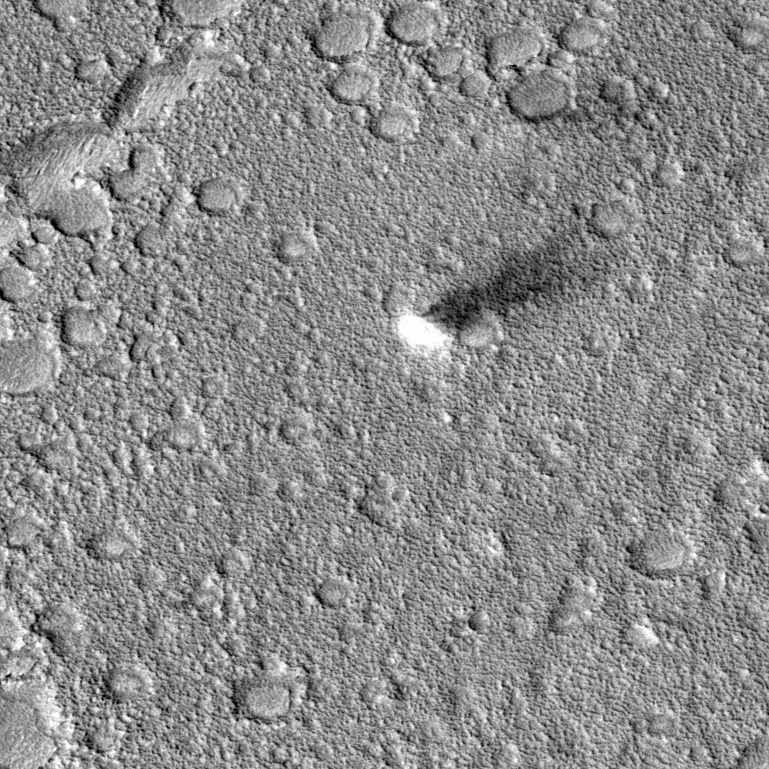dust_devil: (394, 219, 630, 361)
